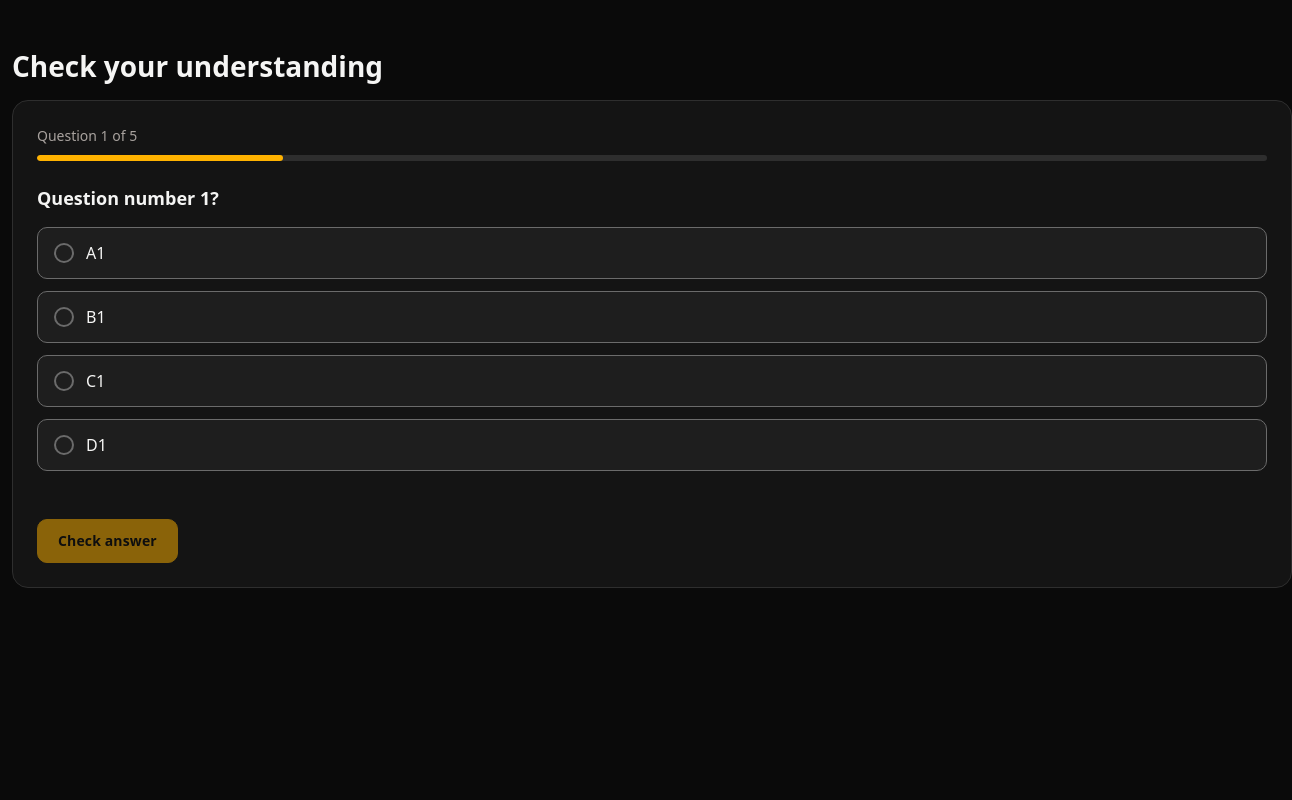
Test: LessonQuiz › explains a wrong answer and marks the right one
Click the radio button labelled "A1". click: coordinates (64, 253)
box: [54,243,74,263]
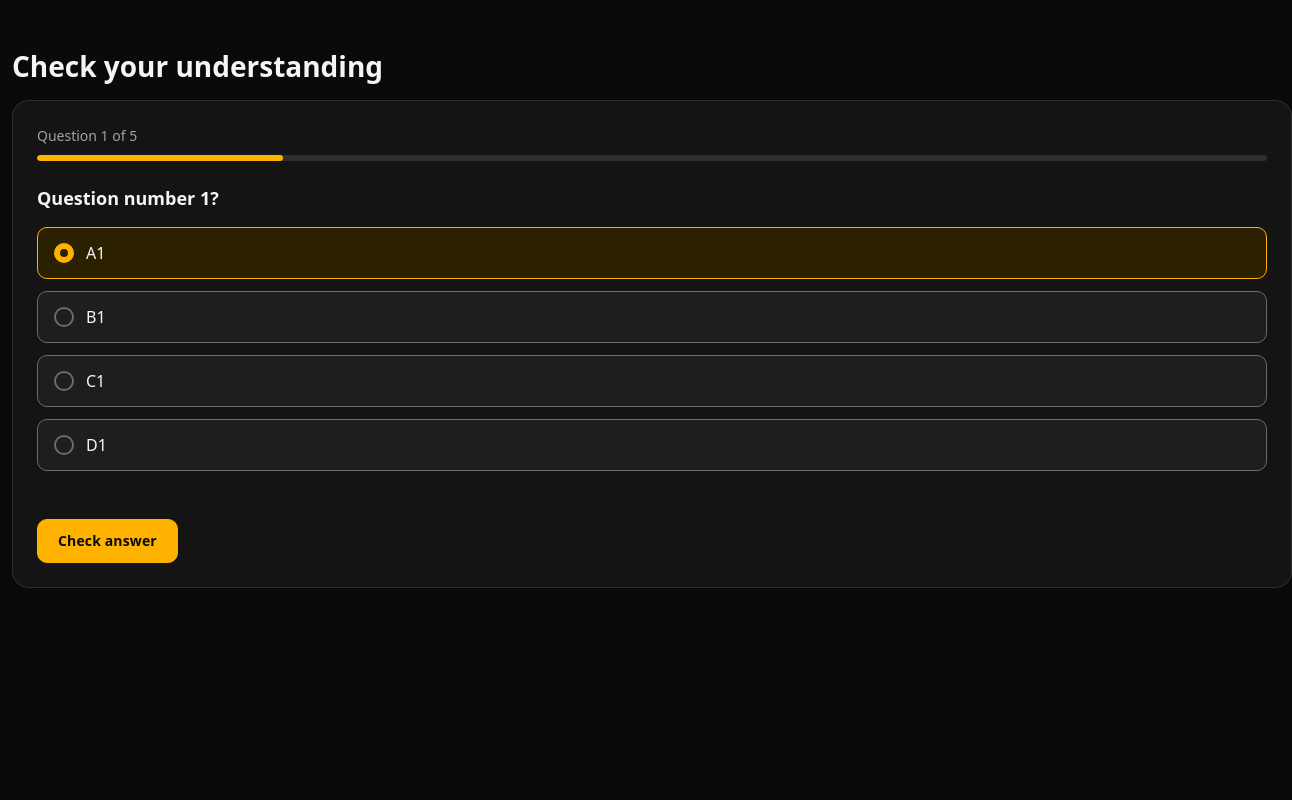
Click the button "Check answer". click: coordinates (107, 541)
box: [37,519,178,563]
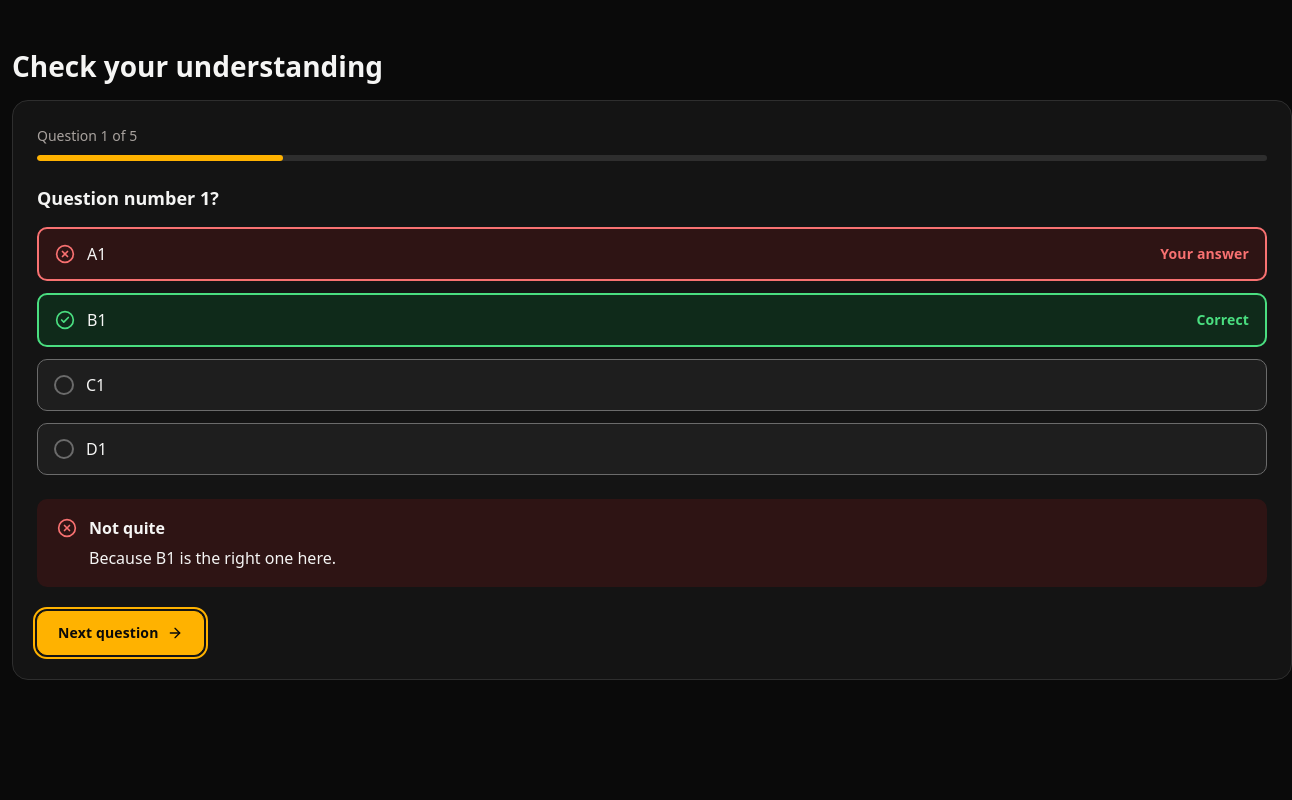
Expected: the message shows "Not quite", [89,517,165,539]
Expected: the message shows "Because B1", [89,547,336,569]
Expected: the text "Your answer" is shown, [1160,244,1249,264]
